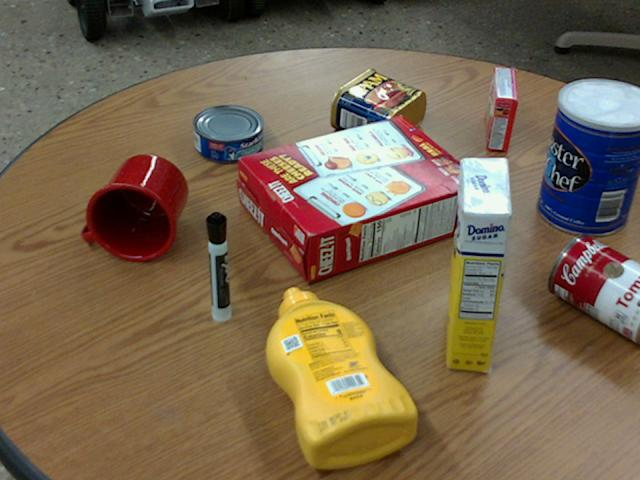cracker_box: (237, 115, 480, 282)
gelatin_box: (485, 67, 516, 150)
large_marker: (205, 210, 229, 321)
master_chef_can: (537, 79, 639, 236)
mug: (82, 153, 186, 260)
mustard_bottle: (265, 287, 417, 467)
potted_meat_can: (330, 68, 425, 144)
sugar_box: (447, 156, 510, 371)
tomato_soup_can: (548, 232, 639, 341)
tuna_fish_can: (192, 103, 262, 160)
